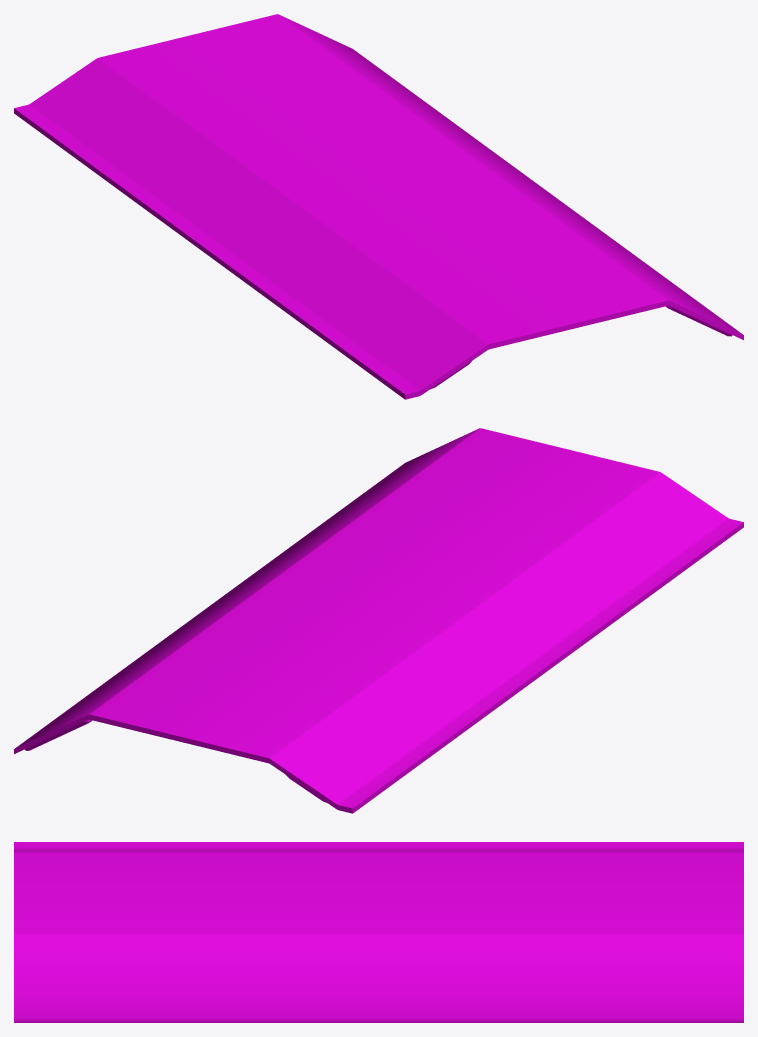
The model's file is Ceiling02.fbx.
The picture shows the model from 3 angles, top to bottom: view 1: azimuth 30°, elevation 25°; view 2: azimuth 150°, elevation 25°; view 3: azimuth 270°, elevation 25°; orthographic projection. The views are drawn at different scales.
Visible parts, largest first — view 1: SM_Ceiling02; view 2: SM_Ceiling02; view 3: SM_Ceiling02.
Boxes of the visible parts, x1,y1,x2,y2 form: SM_Ceiling02: (14, 14, 743, 399); SM_Ceiling02: (14, 428, 743, 813); SM_Ceiling02: (14, 842, 743, 1022).
Bounding box in the file's own units: 200 × 32.89 × 400.
